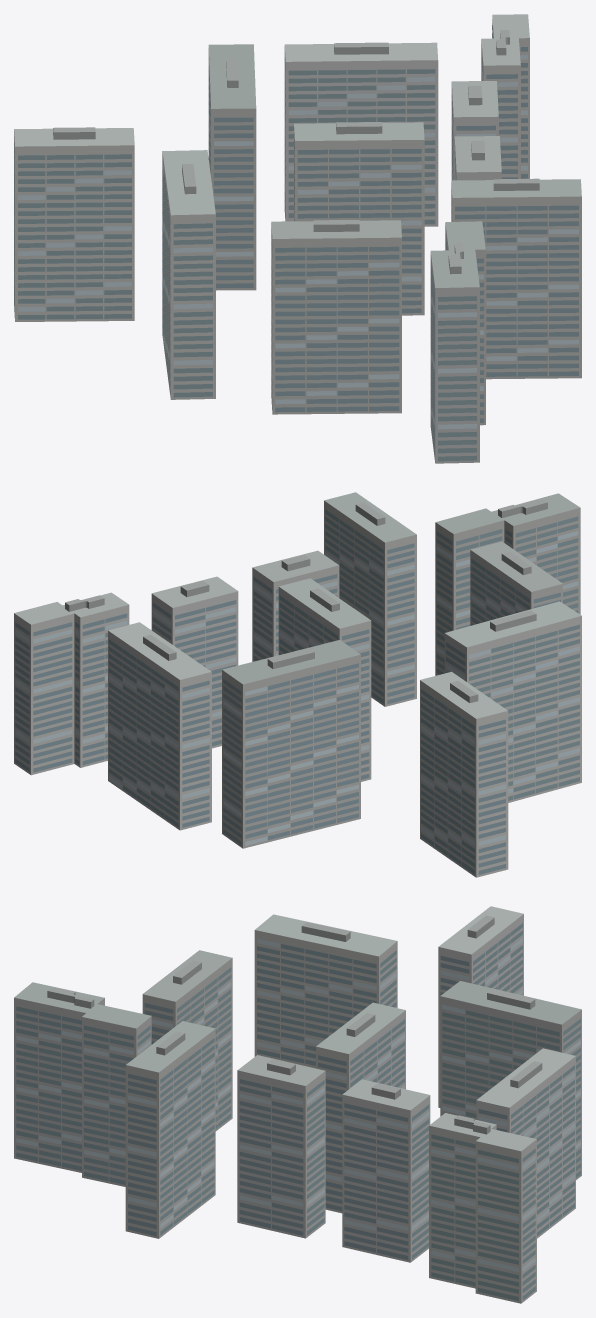
Rendered from apt-a12185303.glb.
3 views of the same model, one above another, from view 1: azimuth 30°, elevation 25°; view 2: azimuth 150°, elevation 25°; view 3: azimuth 270°, elevation 25° (orthographic). The views are drawn at different scales.
Visible parts, largest first — view 1: apt-a12185303; view 2: apt-a12185303; view 3: apt-a12185303.
Boxes of the visible parts, x1=… form: apt-a12185303: x1=14, y1=14, x2=581, y2=463; apt-a12185303: x1=14, y1=492, x2=581, y2=877; apt-a12185303: x1=14, y1=906, x2=581, y2=1303.
Size of the model in its own units: 182 by 63 by 184.
